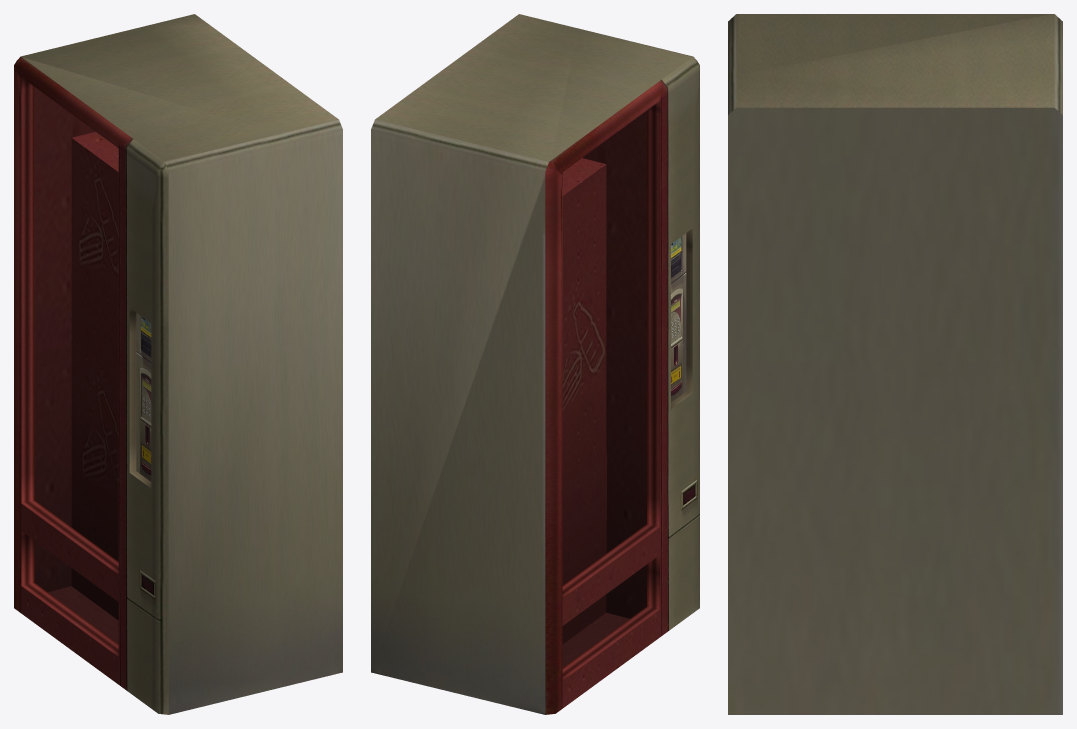
File: Vending_Machine.fbx
3 renders of one model, left to right at view 1: azimuth 30°, elevation 25°; view 2: azimuth 150°, elevation 25°; view 3: azimuth 270°, elevation 25°, orthographic. The views are drawn at different scales.
Visible parts, largest first — view 1: Automat_de_Sucuri.001; view 2: Automat_de_Sucuri.001; view 3: Automat_de_Sucuri.001.
Boxes of the visible parts, x1,y1,x2,y2 form: Automat_de_Sucuri.001: (14, 14, 342, 714); Automat_de_Sucuri.001: (371, 14, 699, 714); Automat_de_Sucuri.001: (728, 14, 1062, 714).
Size of the model in its own units: 3437 by 10000 by 5000.
Materials: 2 (2 with a texture image).
